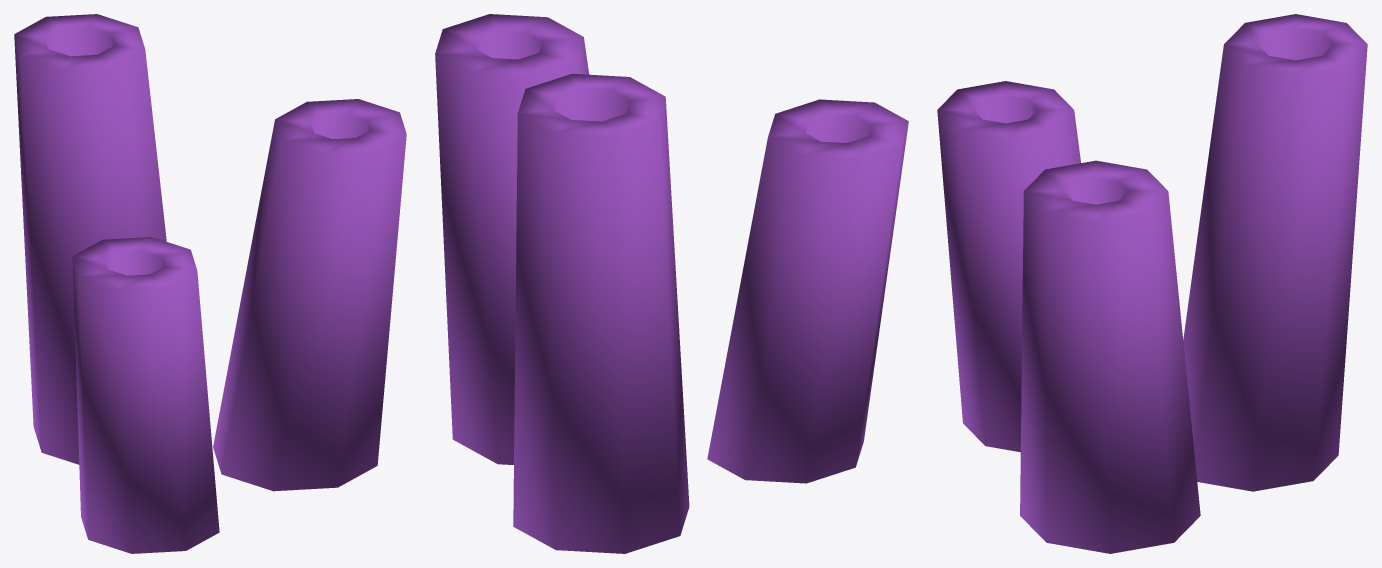
The model's file is Small5.fbx.
The picture shows the model from 3 angles, left to right: view 1: azimuth 30°, elevation 25°; view 2: azimuth 150°, elevation 25°; view 3: azimuth 270°, elevation 25°; orthographic projection. The views are drawn at different scales.
Parts seen in each view (by area): view 1: Small5; view 2: Small5; view 3: Small5.
Part boxes in pixels (x1,y1,x2,y2): Small5: [14, 14, 406, 553]; Small5: [435, 14, 908, 553]; Small5: [937, 14, 1367, 553].
Bounding box in the file's own units: 1.87 × 1.88 × 1.81.
